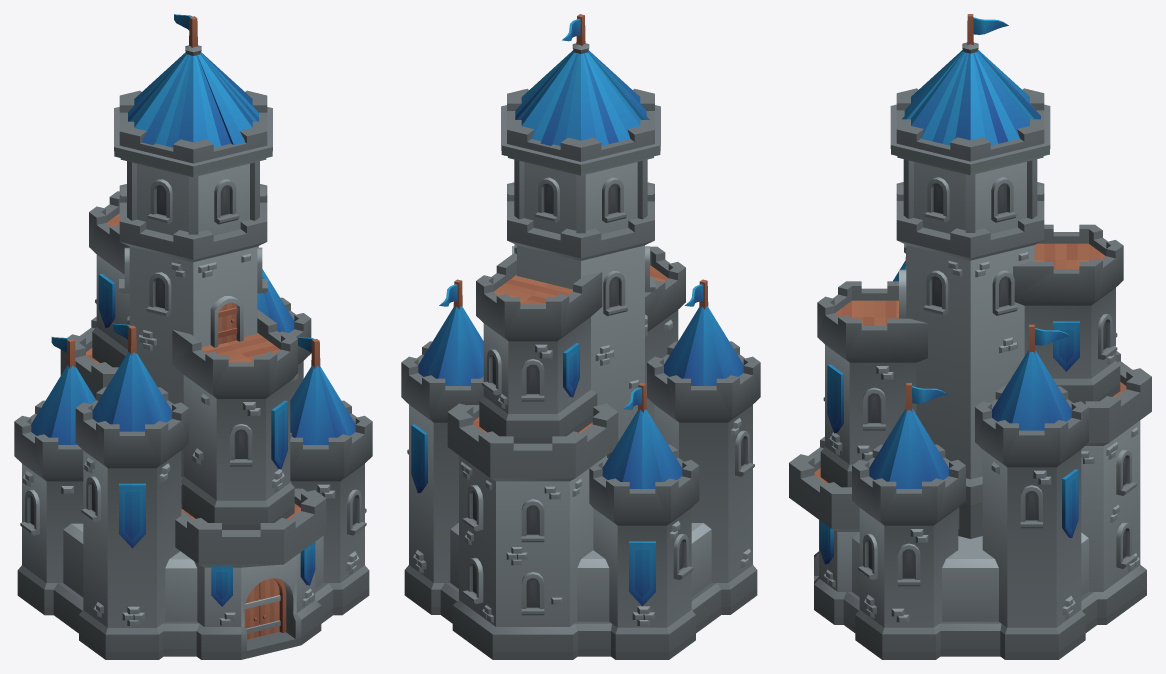
The model's file is castle.glb.
3 views of the same model, side by side, from view 1: azimuth 30°, elevation 25°; view 2: azimuth 150°, elevation 25°; view 3: azimuth 270°, elevation 25° (orthographic).
Visible parts, largest first — view 1: building_castle_blue; view 2: building_castle_blue; view 3: building_castle_blue.
Part boxes in pixels (<box>): building_castle_blue: <box>14,14,372,659</box>; building_castle_blue: <box>401,14,760,659</box>; building_castle_blue: <box>789,14,1151,659</box>.
Bounding box in the file's own units: 1.98 × 3.98 × 2.26.
1 material, 1 textured.
